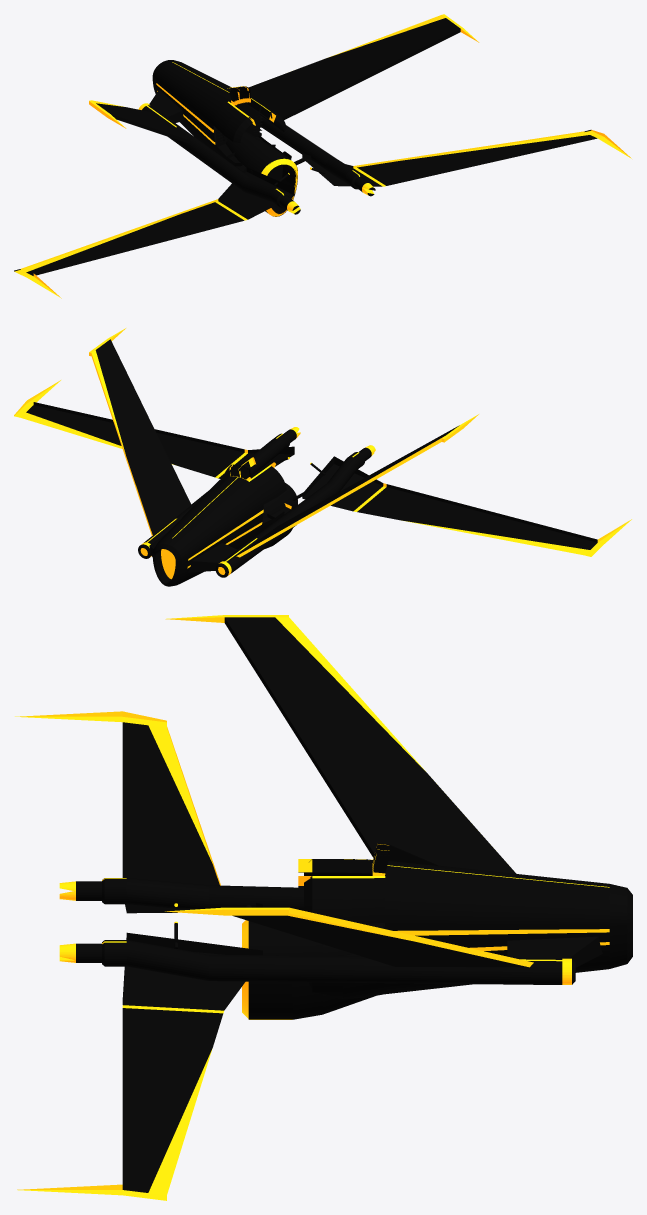
3 renders of one model, top to bottom at view 1: azimuth 30°, elevation 25°; view 2: azimuth 150°, elevation 25°; view 3: azimuth 270°, elevation 25°, orthographic. The views are drawn at different scales.
Parts seen in each view (by area): view 1: JA_black_0, JA_tron_0; view 2: JA_black_0, JA_tron_0; view 3: JA_black_0, JA_tron_0.
Part boxes in pixels (bbox=[...]): JA_black_0: bbox=[14, 18, 597, 275]; JA_tron_0: bbox=[14, 14, 631, 298]; JA_black_0: bbox=[26, 339, 597, 586]; JA_tron_0: bbox=[14, 328, 631, 579]; JA_black_0: bbox=[76, 617, 632, 1192]; JA_tron_0: bbox=[15, 615, 609, 1200].
Bounding box in the file's own units: 2.23 × 0.5542 × 1.22.
